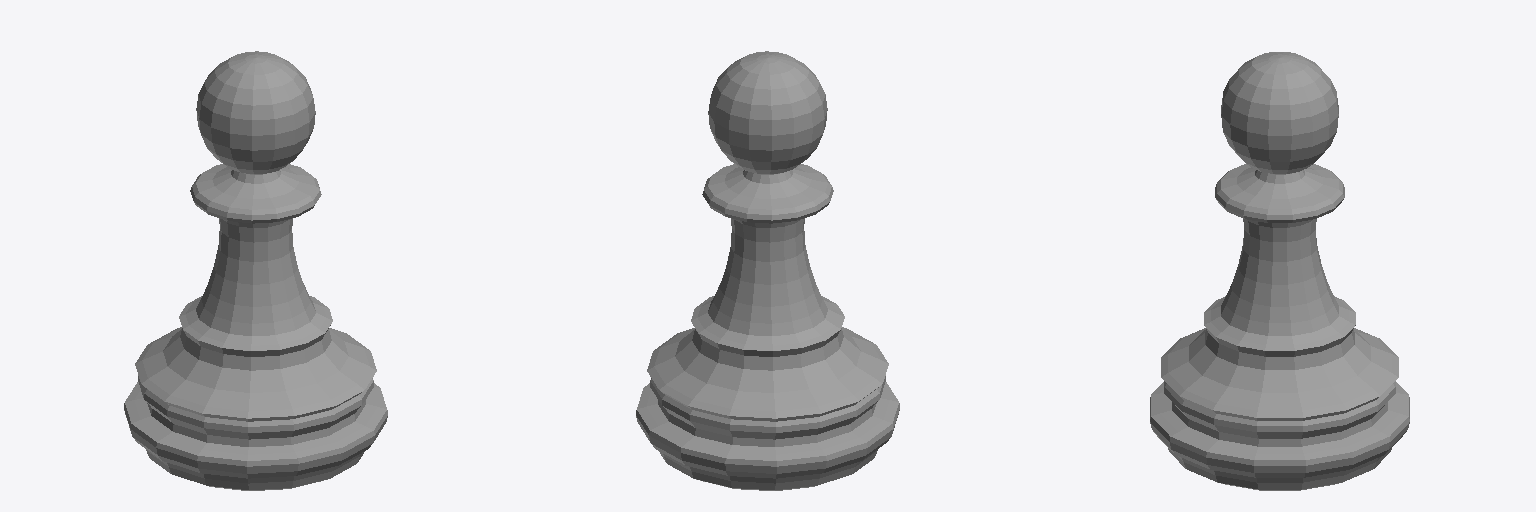
The model's file is Pawn.obj.
3 views of the same model, side by side, from view 1: azimuth 30°, elevation 25°; view 2: azimuth 150°, elevation 25°; view 3: azimuth 270°, elevation 25° (orthographic).
Parts seen in each view (by area): view 1: Pawn_Plane.005; view 2: Pawn_Plane.005; view 3: Pawn_Plane.005.
Boxes of the visible parts, box(x1,y1,x2,y2) form: Pawn_Plane.005: box(124, 51, 387, 490); Pawn_Plane.005: box(636, 51, 899, 490); Pawn_Plane.005: box(1150, 52, 1409, 490).
Bounding box in the file's own units: 3.17 × 5.32 × 3.17.